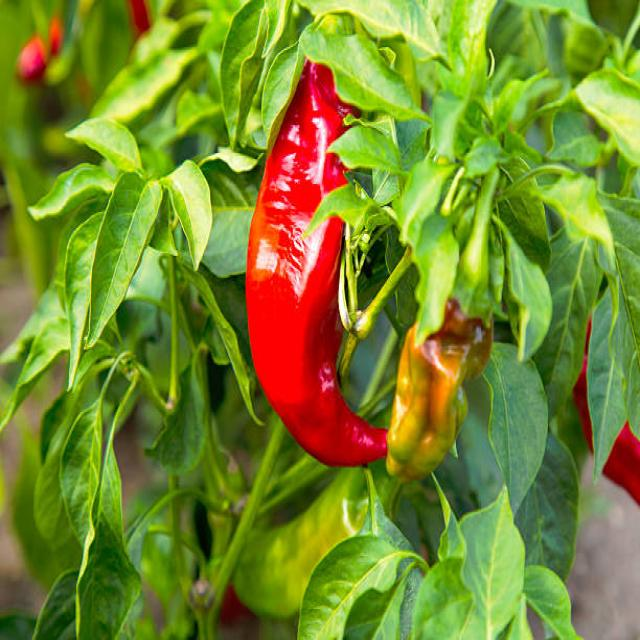Ripe: (246, 60, 386, 465)
Ripe-Unripe: (384, 297, 498, 488)
